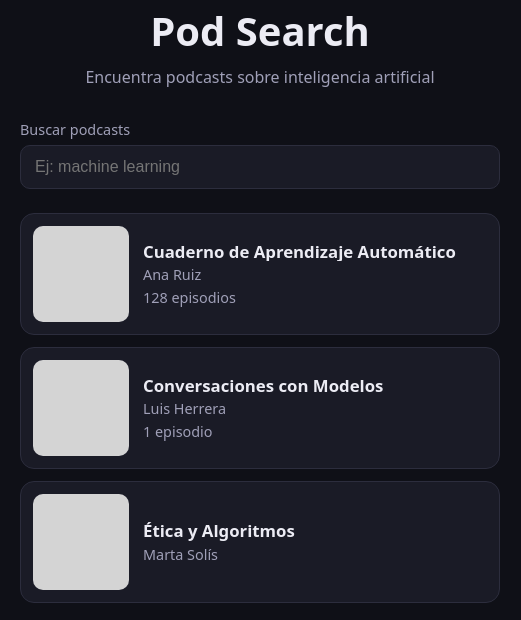
it: App: la caja de búsqueda filtra la lista › al borrar el término la lista se esconde y aparece el aviso de caja vacía
The width and height of the screenshot is (521, 620).
Type "etica" into the search field labelled "Buscar podcasts" at (260, 167), box [20,145,500,189]
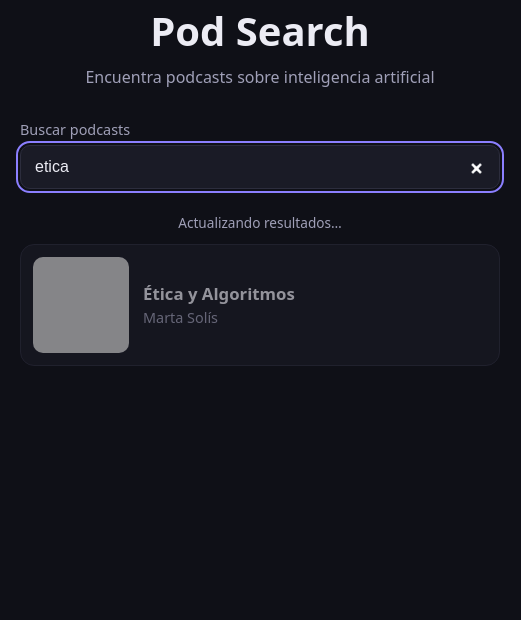
Result: the number of list items is 1 at [20,244,500,366]
Clear the search field labelled "Buscar podcasts" at (260, 167), box [20,145,500,189]
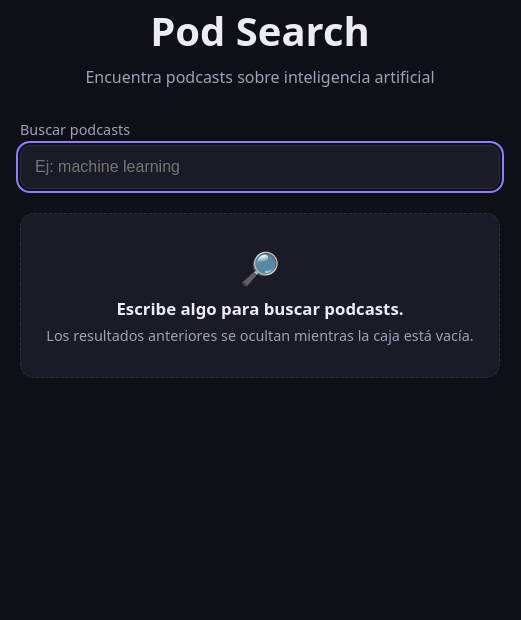
Result: no list items are shown
Result: the text "Escribe algo para buscar podcasts." is shown at [116,297,404,320]
